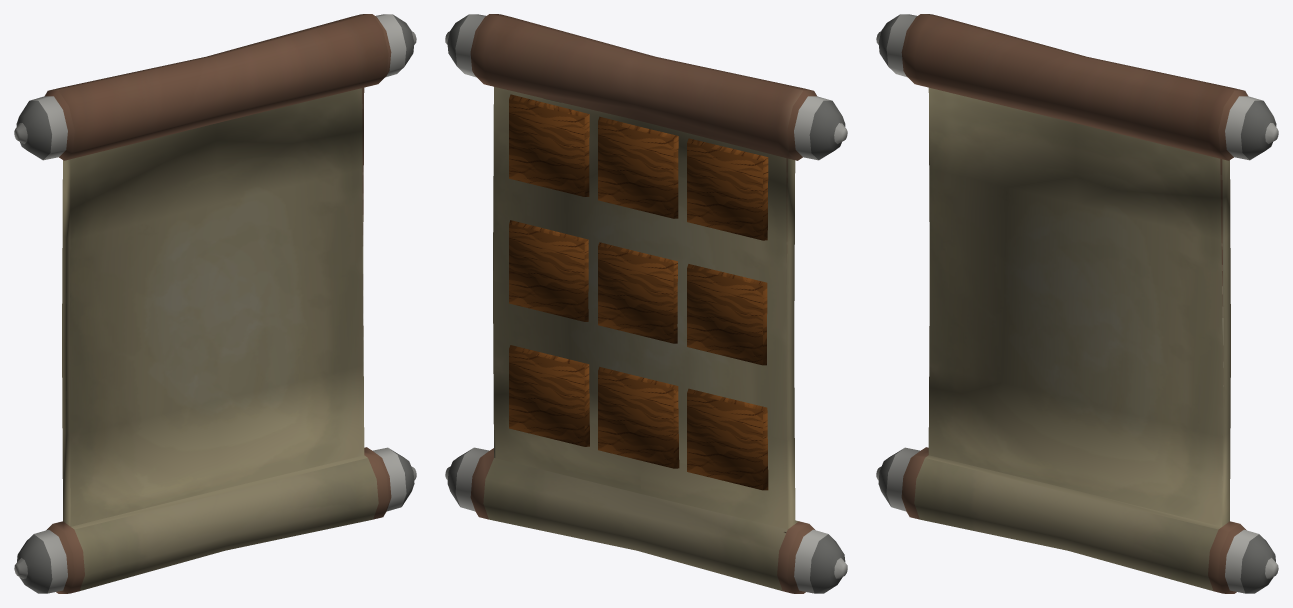
Rendered from hand_menu_background.fbx.
3 views of the same model, side by side, from view 1: azimuth 30°, elevation 25°; view 2: azimuth 150°, elevation 25°; view 3: azimuth 330°, elevation 25° (orthographic).
Visible parts, largest first — view 1: s.1058; view 2: s.1058; view 3: s.1058.
Part boxes in pixels (x1,y1,x2,y2): s.1058: (14, 14, 416, 593); s.1058: (445, 14, 847, 593); s.1058: (876, 14, 1278, 593).
Bounding box in the file's own units: 0.4456 × 0.5399 × 0.0637.
